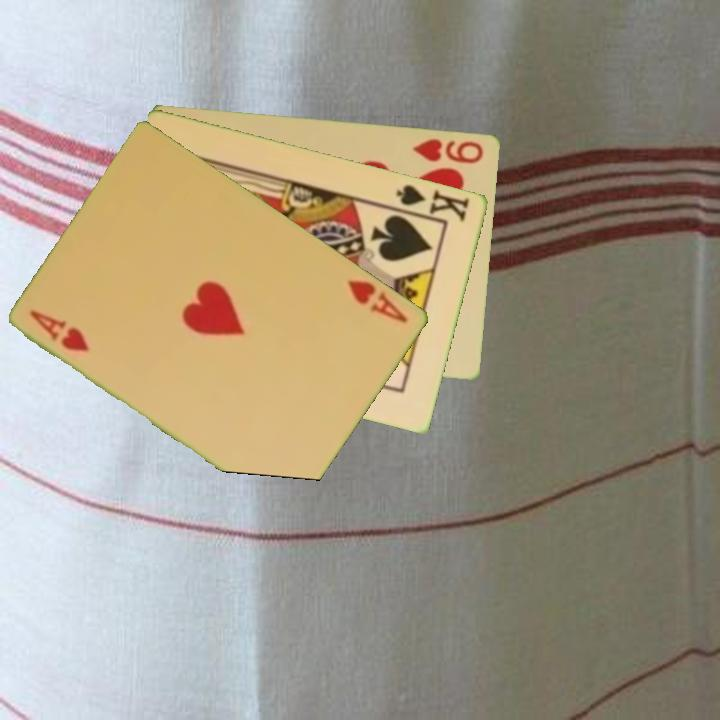9h: (410, 135, 487, 166)
Ah: (344, 276, 412, 326), (27, 306, 93, 355)
Ks: (390, 180, 473, 224)
